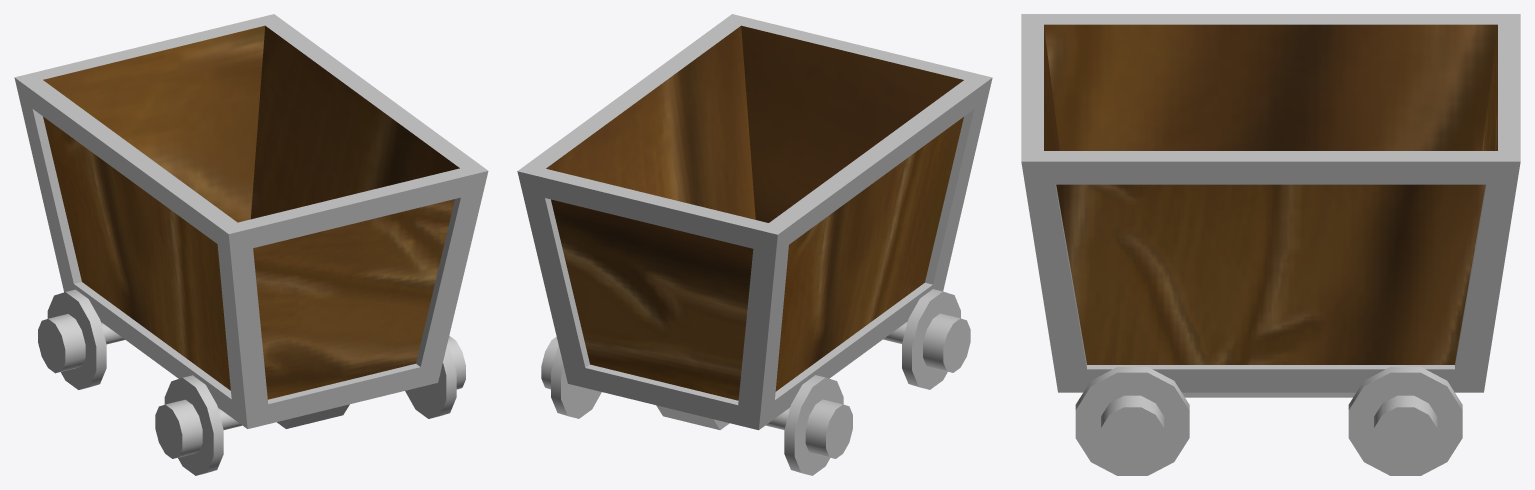
The model's file is Mine Cart.fbx.
3 views of the same model, side by side, from view 1: azimuth 30°, elevation 25°; view 2: azimuth 150°, elevation 25°; view 3: azimuth 270°, elevation 25° (orthographic). The views are drawn at different scales.
Visible parts, largest first — view 1: Mine Cart; view 2: Mine Cart; view 3: Mine Cart.
Boxes of the visible parts, <box> form: Mine Cart: <box>14,14,488,475</box>; Mine Cart: <box>517,14,992,475</box>; Mine Cart: <box>1021,14,1520,475</box>.
Bounding box in the file's own units: 69.88 × 64.48 × 91.43.
